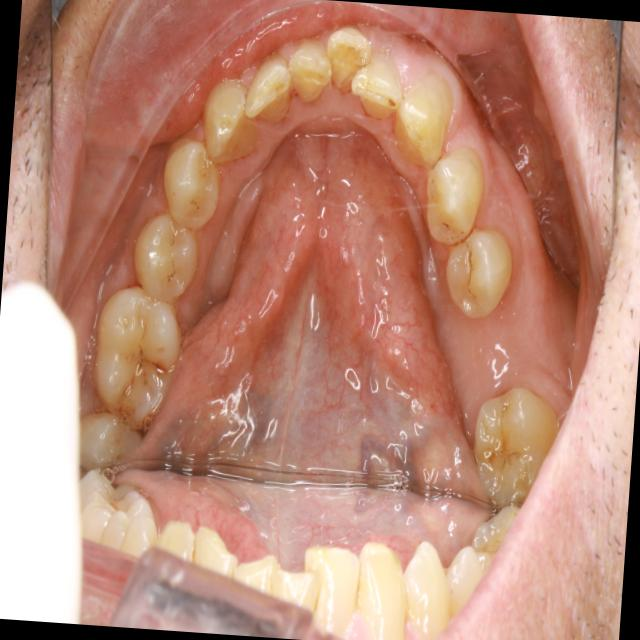tooth: (81, 283, 190, 440), (454, 369, 564, 513), (385, 47, 461, 182), (410, 135, 492, 260), (152, 128, 235, 243), (126, 211, 212, 317), (434, 225, 520, 326), (192, 74, 273, 177), (342, 37, 412, 139), (73, 395, 152, 478), (281, 22, 337, 128), (243, 47, 307, 136), (317, 14, 377, 107)
